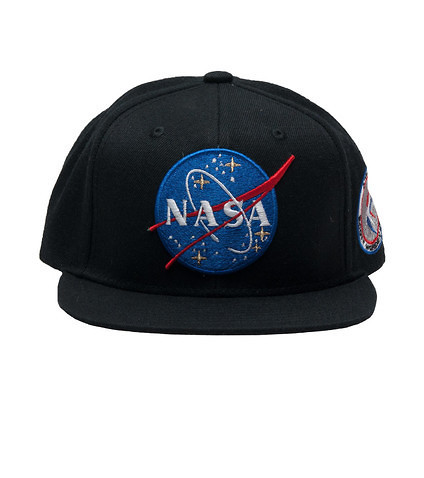NASA: (140, 146, 296, 273)
